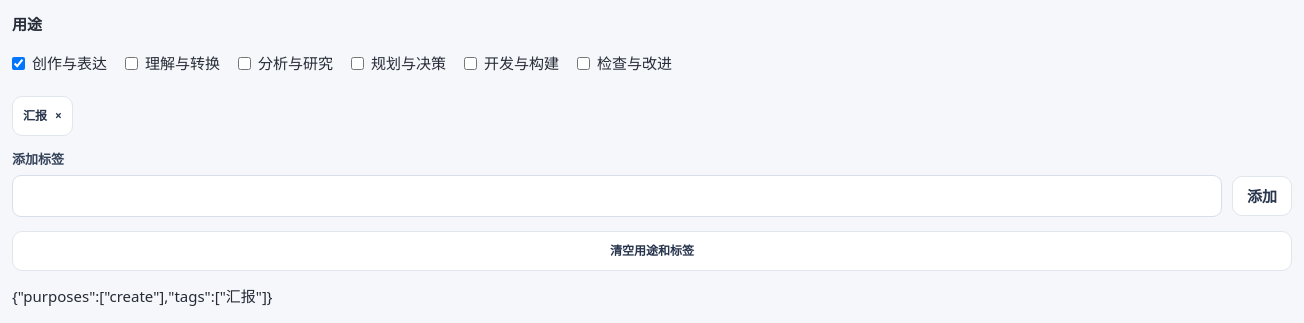
Test case: optional description editing › supports several purposes, removing every suggestion and a new tag
The image size is (1304, 323).
Click the checkbox labelled "分析与研究". click: (244, 64)
box: x1=238 y1=57 x2=251 y2=70
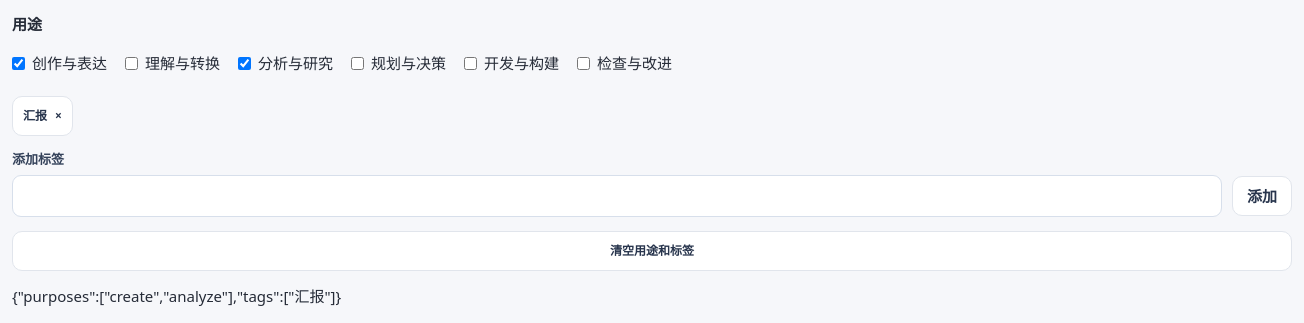
Result: the text "{\"purposes\":[\"create\",\"analyze\"],\"tags\":[\"汇报\"]}" shows "\"create\",\"analyze\"" at x1=12 y1=286 x2=341 y2=306
Click the button with aria-label "移除标签：汇报". click: (42, 116)
box: x1=12 y1=96 x2=73 y2=136
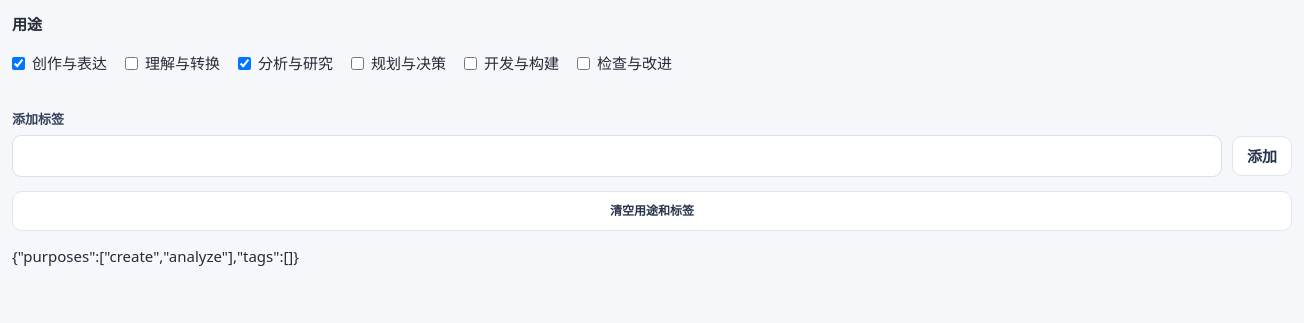
Type "经营" into the field labelled "添加标签". click: (617, 156)
box: x1=12 y1=135 x2=1222 y2=177
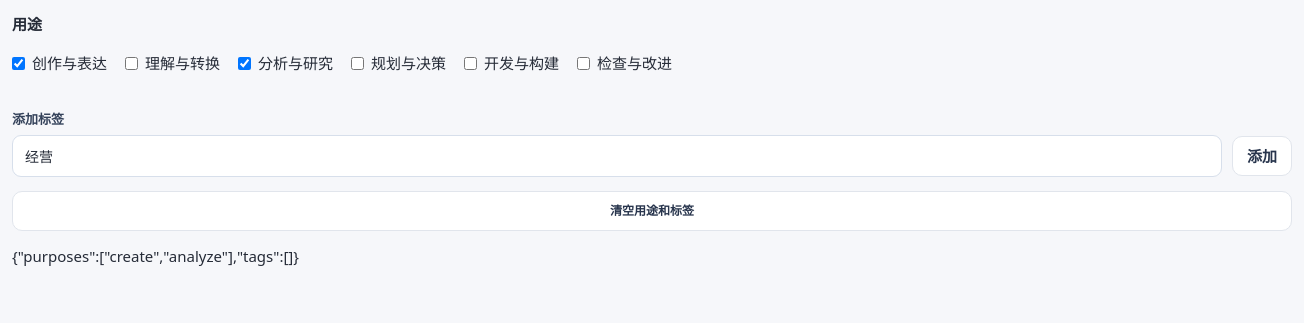
Press Enter in the field labelled "添加标签", box x1=12 y1=135 x2=1222 y2=177
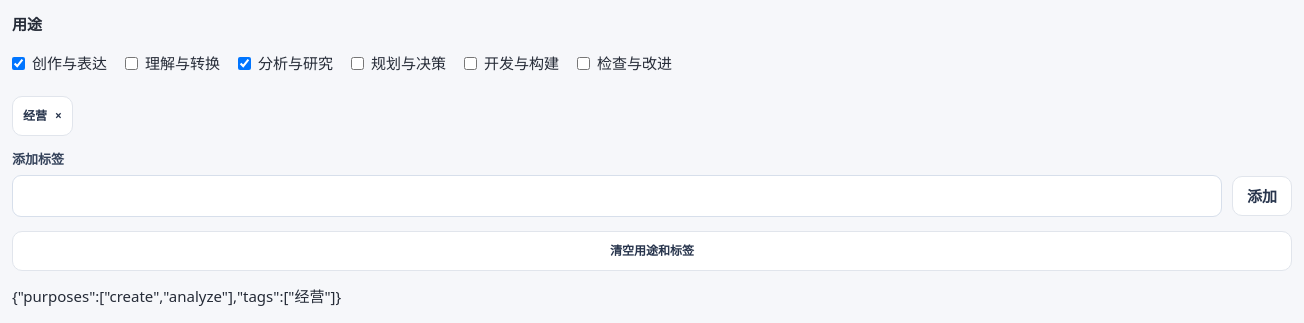
Result: the text "{\"purposes\":[\"create\",\"analyze\"],\"tags\":[\"经营\"]}" shows "\"tags\":[\"经营\"]" at x1=12 y1=286 x2=341 y2=306
Click the button "清空用途和标签". click: (652, 251)
box: x1=12 y1=231 x2=1292 y2=271
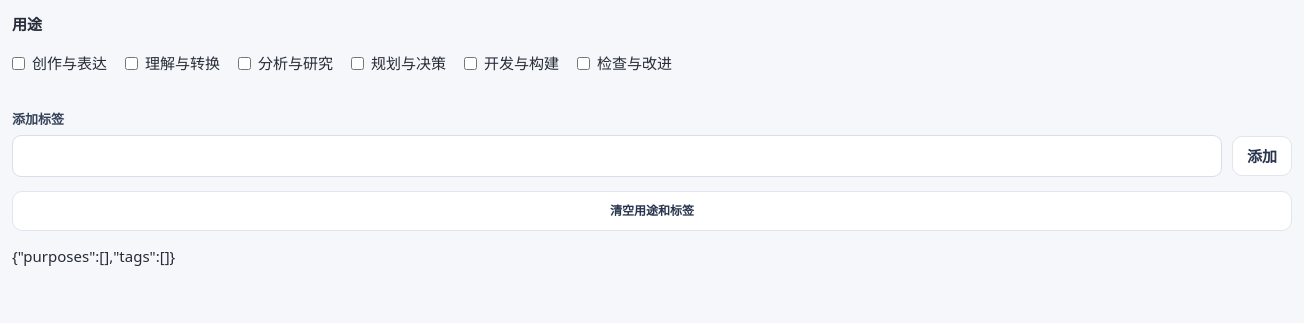
Result: the text "{\"purposes\":[],\"tags\":[]}" is shown at x1=12 y1=246 x2=175 y2=266
